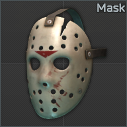Jason mask: (0, 0, 127, 127)
